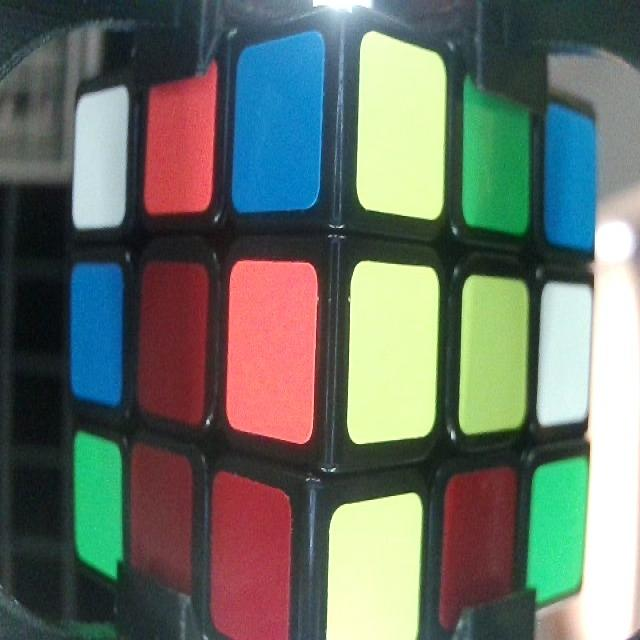b: (238, 60, 316, 189), (70, 272, 120, 390), (550, 119, 594, 236)
g: (468, 84, 529, 224), (74, 444, 120, 556), (537, 475, 583, 575)
o: (230, 272, 312, 412), (151, 86, 211, 196)
r: (212, 495, 288, 625), (144, 270, 203, 402), (448, 484, 514, 597), (133, 462, 191, 589)
w: (544, 290, 586, 410), (78, 107, 123, 214)
y: (350, 277, 436, 424), (362, 54, 442, 194), (333, 519, 417, 634), (464, 284, 525, 419)
